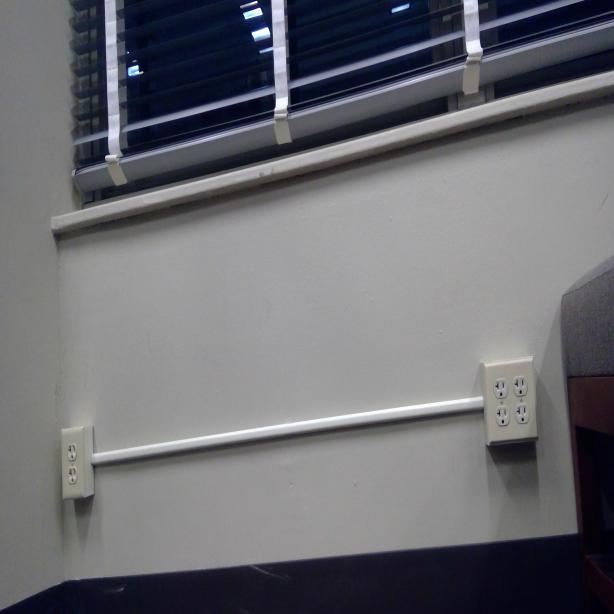typeb: (492, 376, 508, 402), (494, 407, 510, 429), (514, 403, 530, 423), (514, 375, 528, 396), (66, 442, 78, 462), (66, 468, 78, 484)
